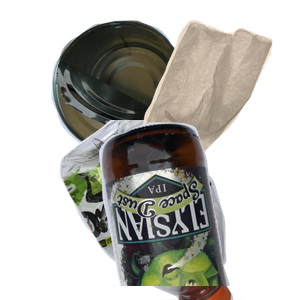glass: (97, 120, 300, 300)
metal: (49, 18, 229, 164)
plastic: (57, 120, 293, 300)
trash: (132, 17, 300, 177)
